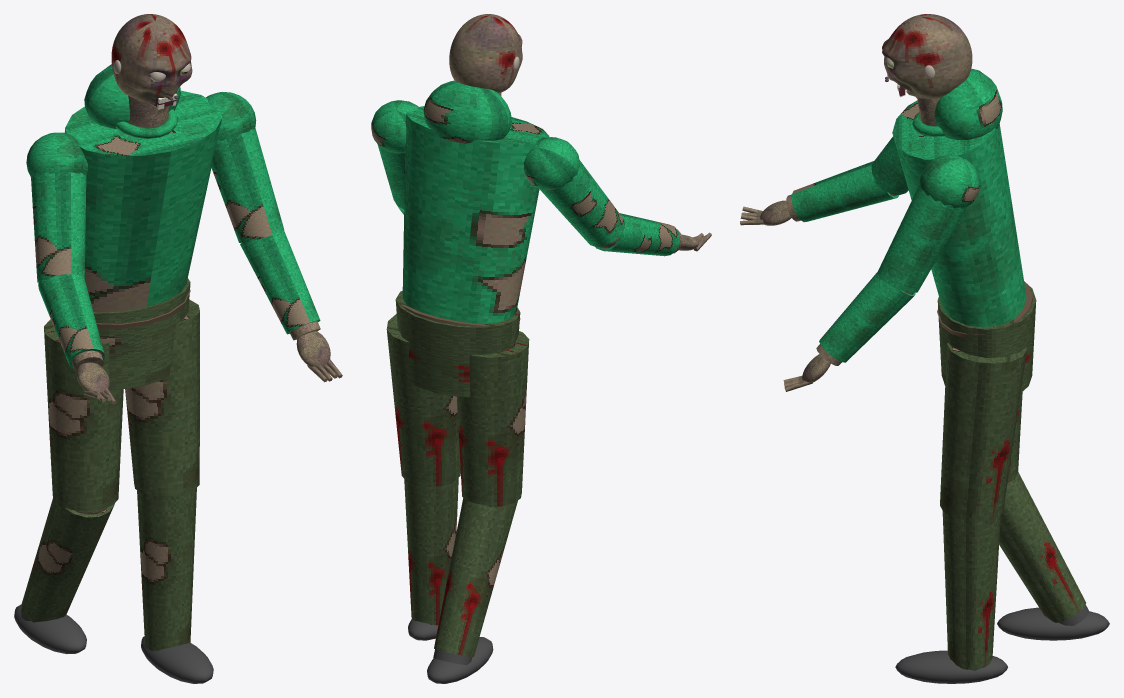
The model's file is Zombie_053.glb.
The picture shows the model from 3 angles, left to right: view 1: azimuth 30°, elevation 25°; view 2: azimuth 150°, elevation 25°; view 3: azimuth 270°, elevation 25°; orthographic projection. The views are drawn at different scales.
Visible parts, largest first — view 1: Zombie_053, object 18, object 12, object 4, object 13, object 5; view 2: Zombie_053, object 18, object 4; view 3: Zombie_053, object 18, object 12, object 4, object 5.
Part boxes in pixels (x1,y1,x2,y2): Zombie_053: (14, 64, 284, 683); object 18: (111, 14, 192, 105); object 12: (240, 230, 320, 334); object 4: (38, 274, 104, 369); object 13: (296, 331, 330, 367); object 5: (77, 362, 109, 392); Zombie_053: (371, 80, 624, 683); object 18: (449, 14, 522, 93); object 4: (595, 213, 679, 256); Zombie_053: (871, 68, 1109, 683); object 18: (882, 14, 972, 98); object 12: (819, 273, 915, 362); object 4: (791, 161, 899, 222); object 5: (760, 200, 791, 225).
Size of the model in its own units: 0.7549 by 1.8 by 0.9322.
Materials: 15 (5 with a texture image).
